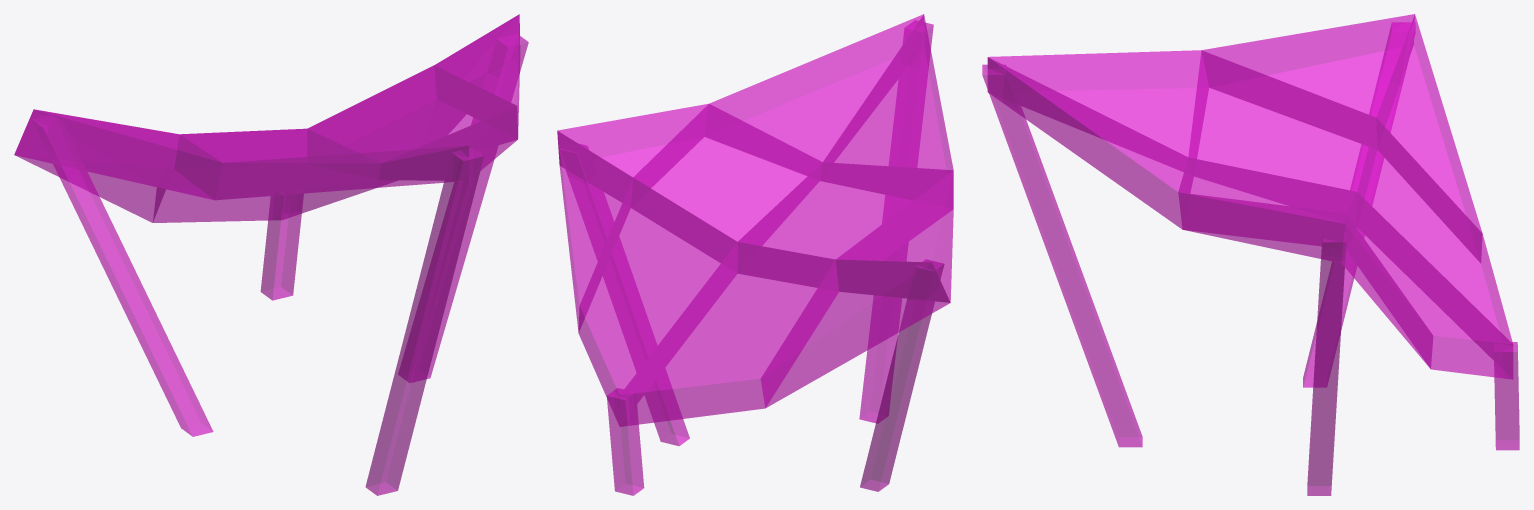
File: SM_Prop_Tent_03_Collision.fbx
3 renders of one model, left to right at view 1: azimuth 30°, elevation 25°; view 2: azimuth 150°, elevation 25°; view 3: azimuth 270°, elevation 25°, orthographic. The views are drawn at different scales.
Visible parts, largest first — view 1: SM_Prop_Tent_03_Collision; view 2: SM_Prop_Tent_03_Collision; view 3: SM_Prop_Tent_03_Collision.
Part boxes in pixels (box(x1,y1,x2,y2)): SM_Prop_Tent_03_Collision: box(14, 14, 528, 495); SM_Prop_Tent_03_Collision: box(557, 14, 953, 495); SM_Prop_Tent_03_Collision: box(982, 14, 1519, 495).
Bounding box in the file's own units: 567 × 451 × 559.
